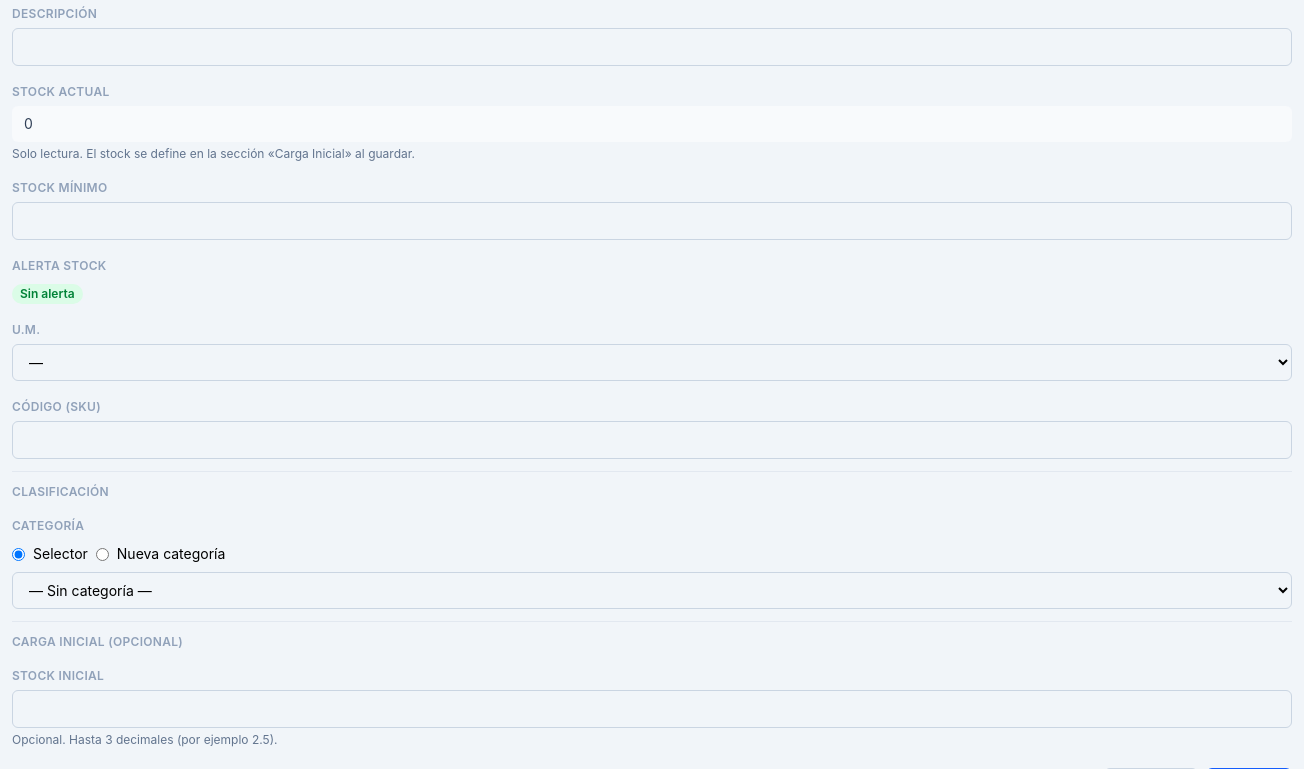
Test: MaterialForm CATEGORÍA DUAL › switches to nueva categoria input when radio is selected
Click the text "Nueva categoría" at [171, 554], box x1=117 y1=544 x2=225 y2=564
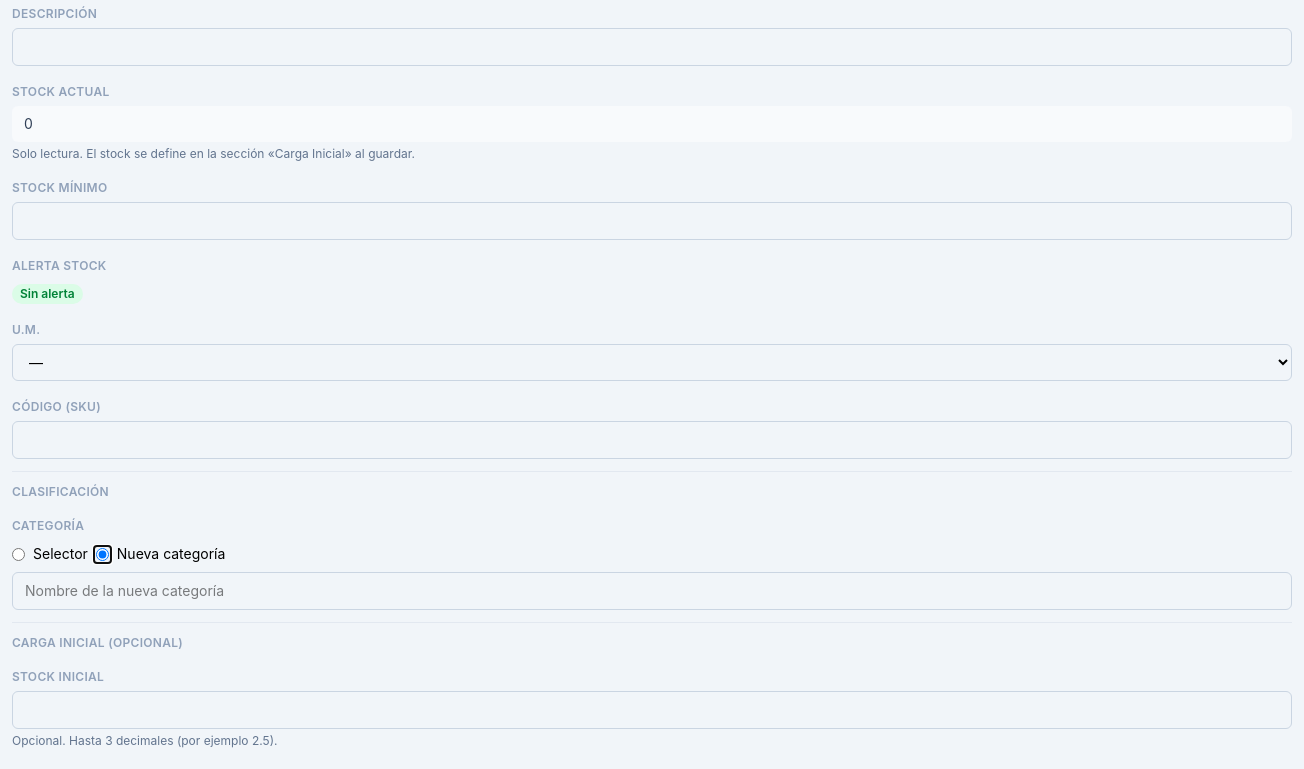
Result: the field with placeholder "Nombre de la nueva categoría" is shown at x1=12 y1=572 x2=1292 y2=610
